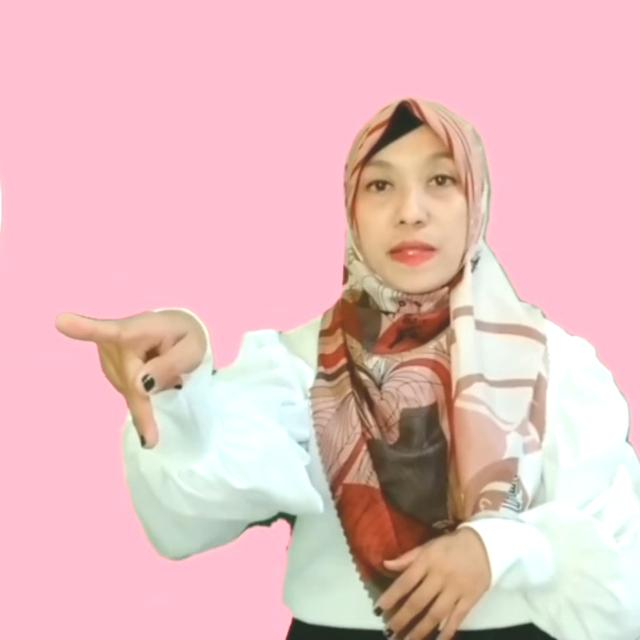P: (50, 304, 212, 454)
